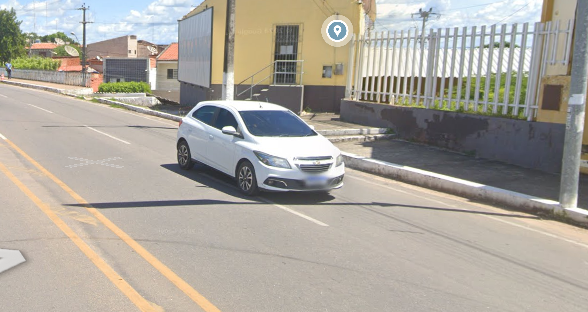car: (174, 93, 349, 204)
